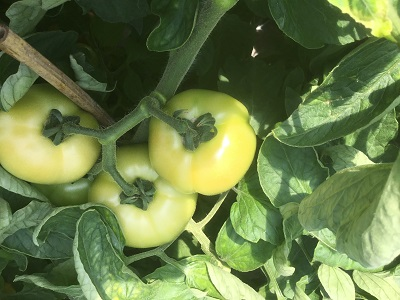immature-tomato: (157, 91, 254, 193), (104, 143, 198, 237), (1, 97, 96, 183)
